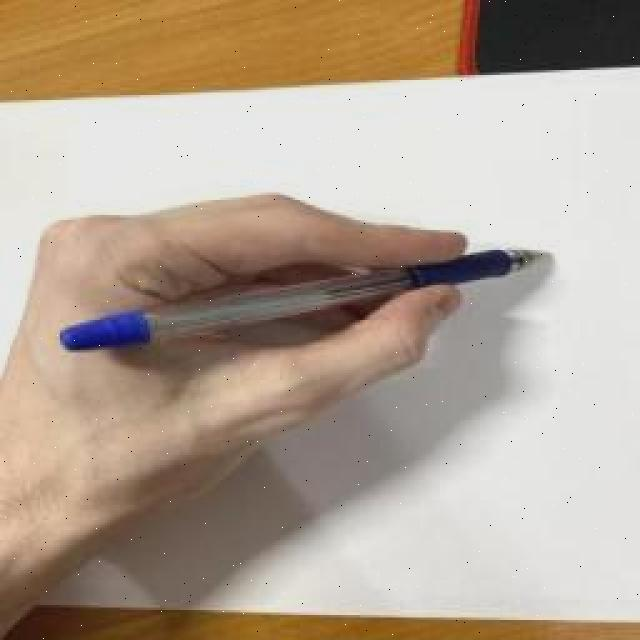pen: (60, 245, 550, 355)
